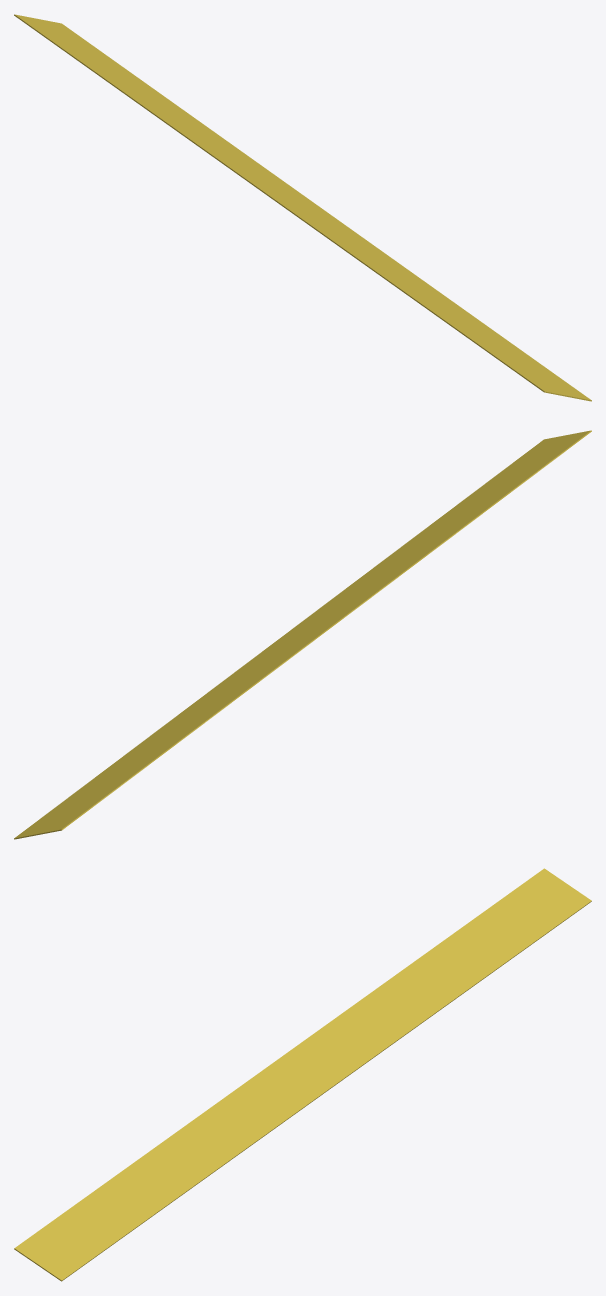
File: entity-post-box-2.glb
The picture shows the model from 3 angles, top to bottom: view 1: azimuth 30°, elevation 25°; view 2: azimuth 150°, elevation 25°; view 3: azimuth 330°, elevation 25°; orthographic projection.
Visible parts, largest first — view 1: geometry_0; view 2: geometry_0; view 3: geometry_0.
Part boxes in pixels (box(x1,y1,x2,y2)): geometry_0: box(14, 14, 591, 401); geometry_0: box(14, 430, 591, 839); geometry_0: box(14, 868, 591, 1281).
Size of the model in its own units: 0.1444 by 0.0871 by 2.68.
